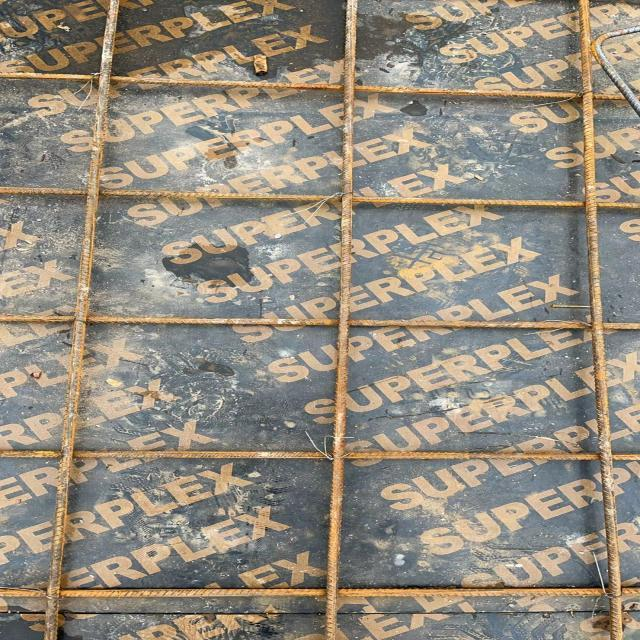ribbed bar: (39, 0, 120, 639), (577, 0, 621, 639), (323, 0, 357, 639), (0, 72, 639, 102), (0, 186, 639, 210), (0, 314, 639, 330), (0, 450, 639, 462), (0, 586, 639, 598)
